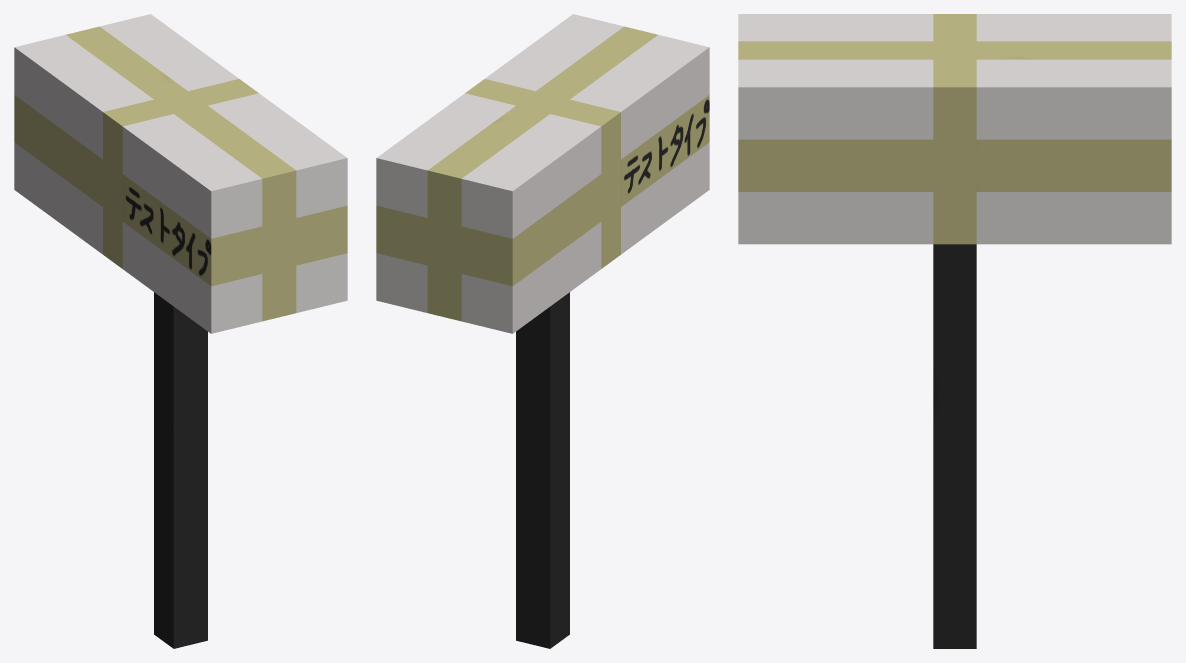
Rendered from player_Weapon.obj.
3 views of the same model, side by side, from view 1: azimuth 30°, elevation 25°; view 2: azimuth 150°, elevation 25°; view 3: azimuth 270°, elevation 25° (orthographic). The views are drawn at different scales.
Visible parts, largest first — view 1: 立方体; view 2: 立方体; view 3: 立方体.
Part boxes in pixels (<box>): 立方体: <box>14,14,347,648</box>; 立方体: <box>376,14,709,648</box>; 立方体: <box>738,14,1171,648</box>.
Bounding box in the file's own units: 2 × 7.5 × 5.
Materials: 1 (1 with a texture image).
